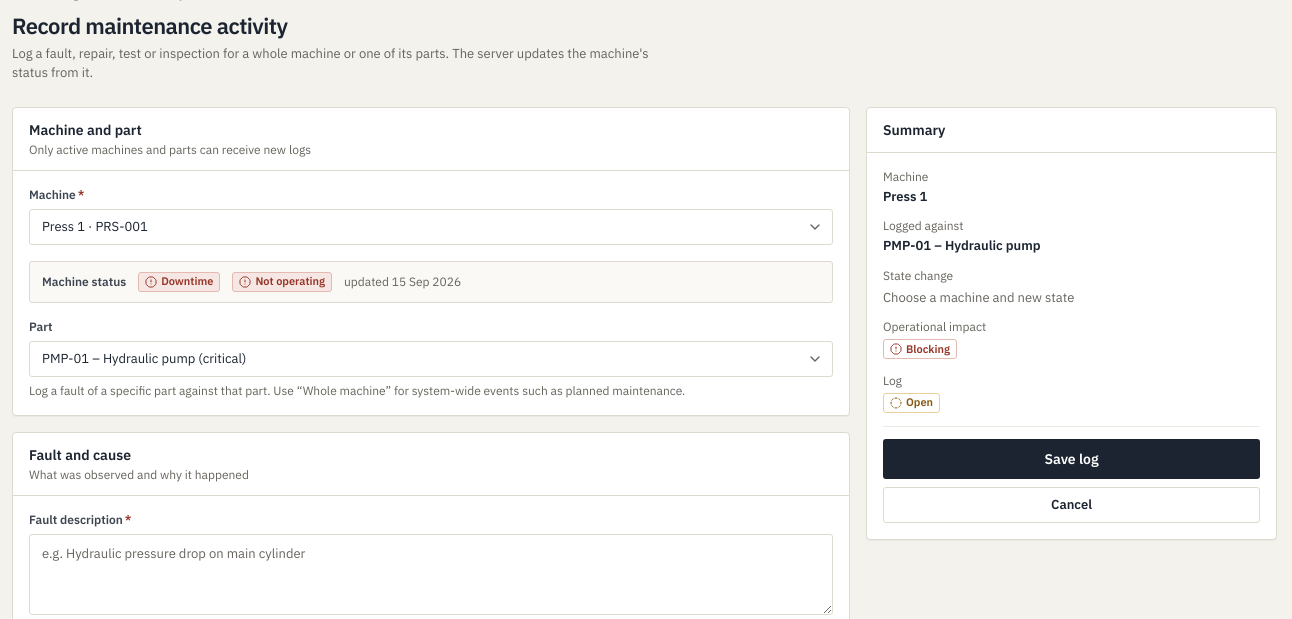
Test: Record maintenance activity › part events › drops a part that was taken out of use
expect the text "Machine status" is shown: met, box [42,274,126,290]
In the text box labelled "Fault description": [431, 574] box [29,534,833,615], type "Pump seized"
(page scrolled)
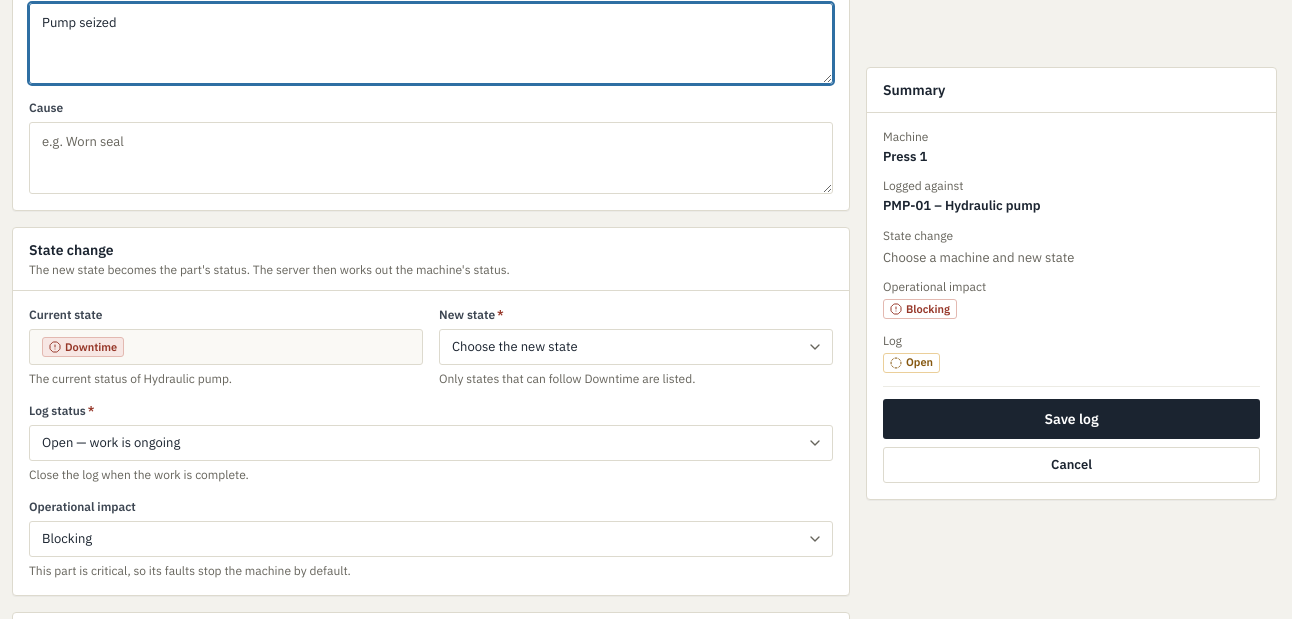
Select "Under maintenance" in the dropdown labelled "New state": [636, 347] box [439,329,833,365]
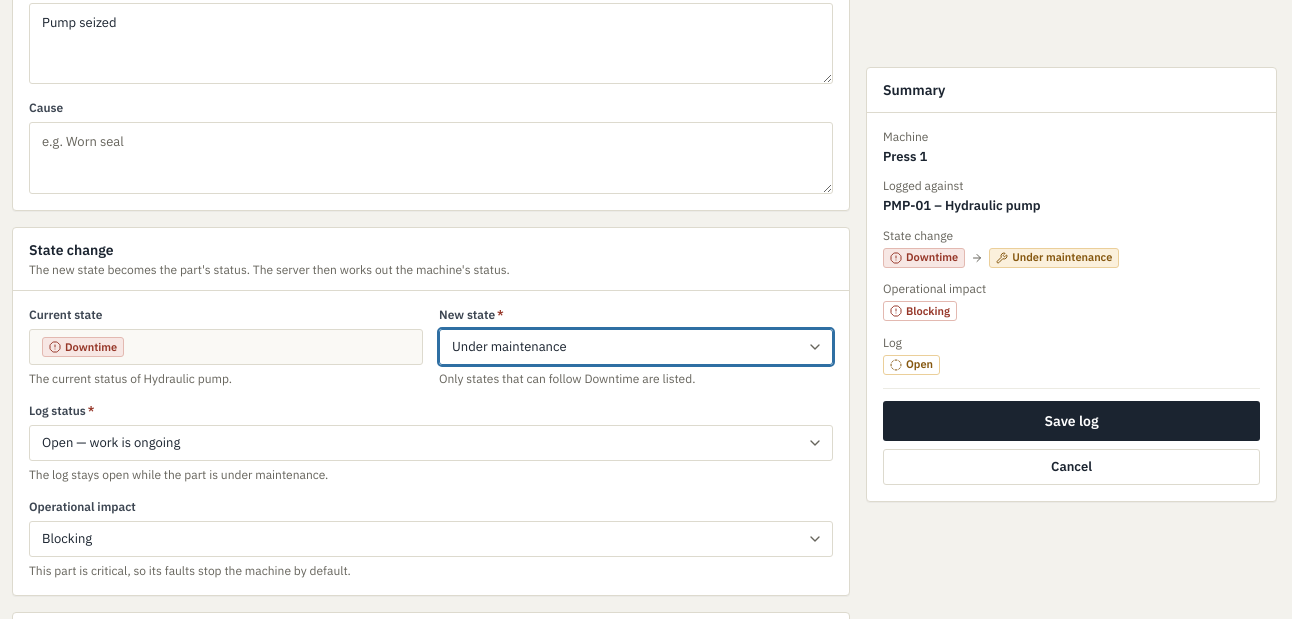
Click the button "Save log": [1072, 420] box [883,400,1260,440]
(page scrolled)
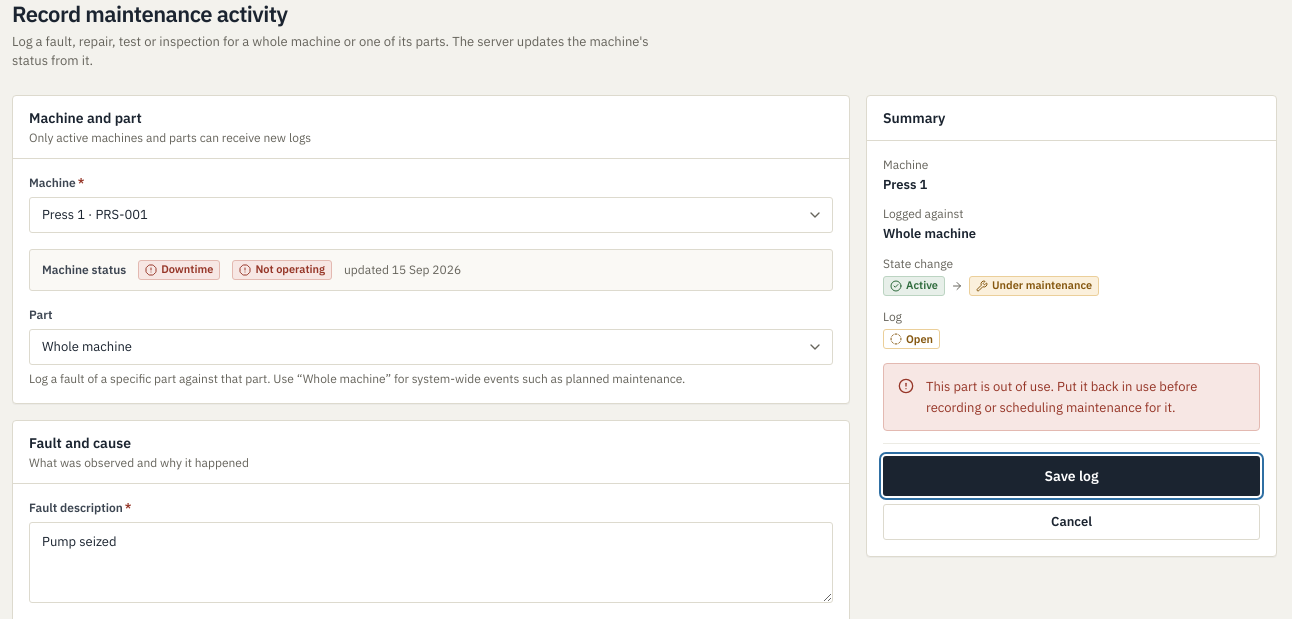
expect the dropdown labelled "Part" shows "Whole machine": met, box [29,328,833,364]
expect the text "PMP-01" is gone: met
